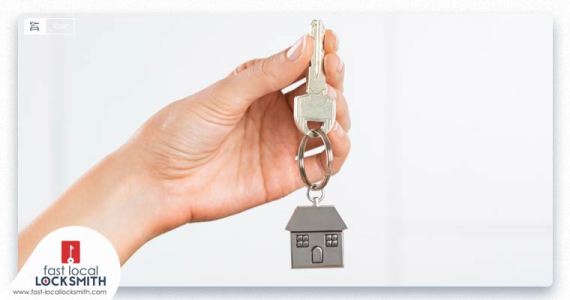key: (292, 18, 339, 138)
